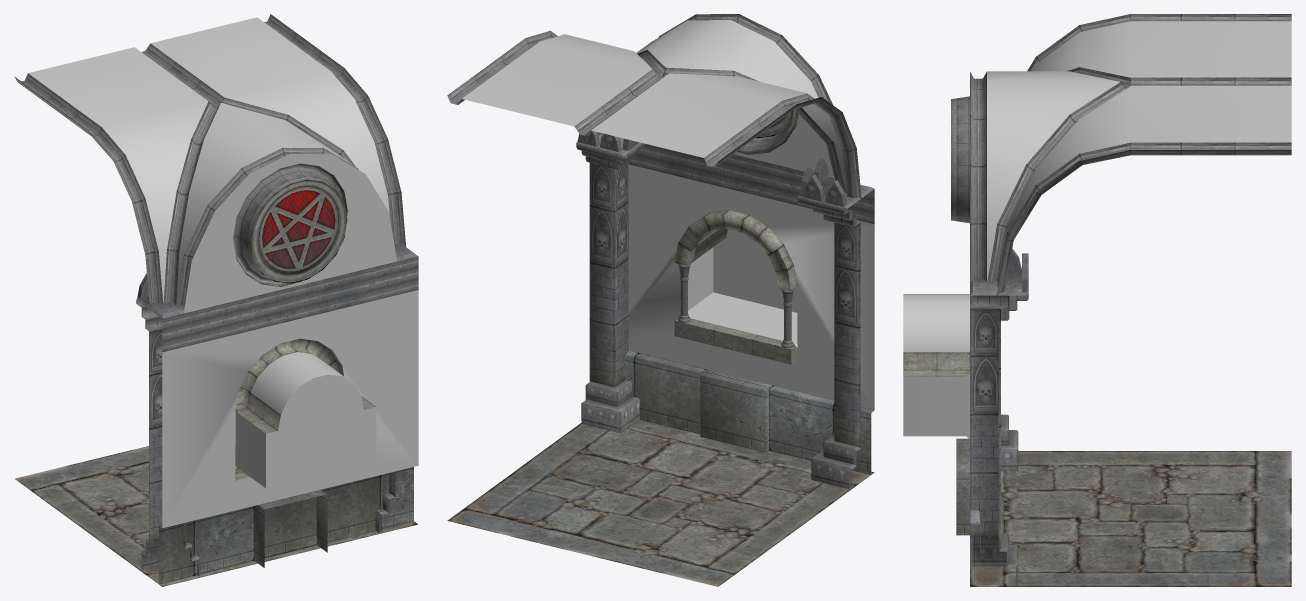
File: Wall_Anclove.FBX
3 views of the same model, side by side, from view 1: azimuth 30°, elevation 25°; view 2: azimuth 150°, elevation 25°; view 3: azimuth 270°, elevation 25° (orthographic). The views are drawn at different scales.
Visible parts, largest first — view 1: Wall_Item; view 2: Wall_Item; view 3: Wall_Item.
Part boxes in pixels (x1=…): Wall_Item: x1=15, y1=14, x2=418, y2=586; Wall_Item: x1=447, y1=14, x2=874, y2=586; Wall_Item: x1=903, y1=14, x2=1291, y2=586.
Bounding box in the file's own units: 500 × 750 × 603.
